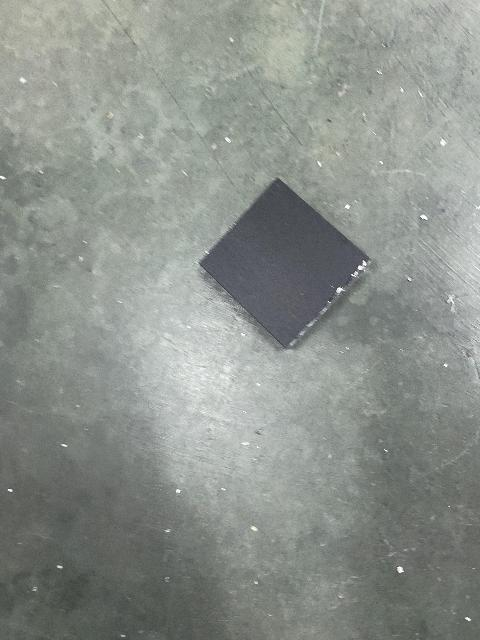Metal: (194, 163, 403, 352)
